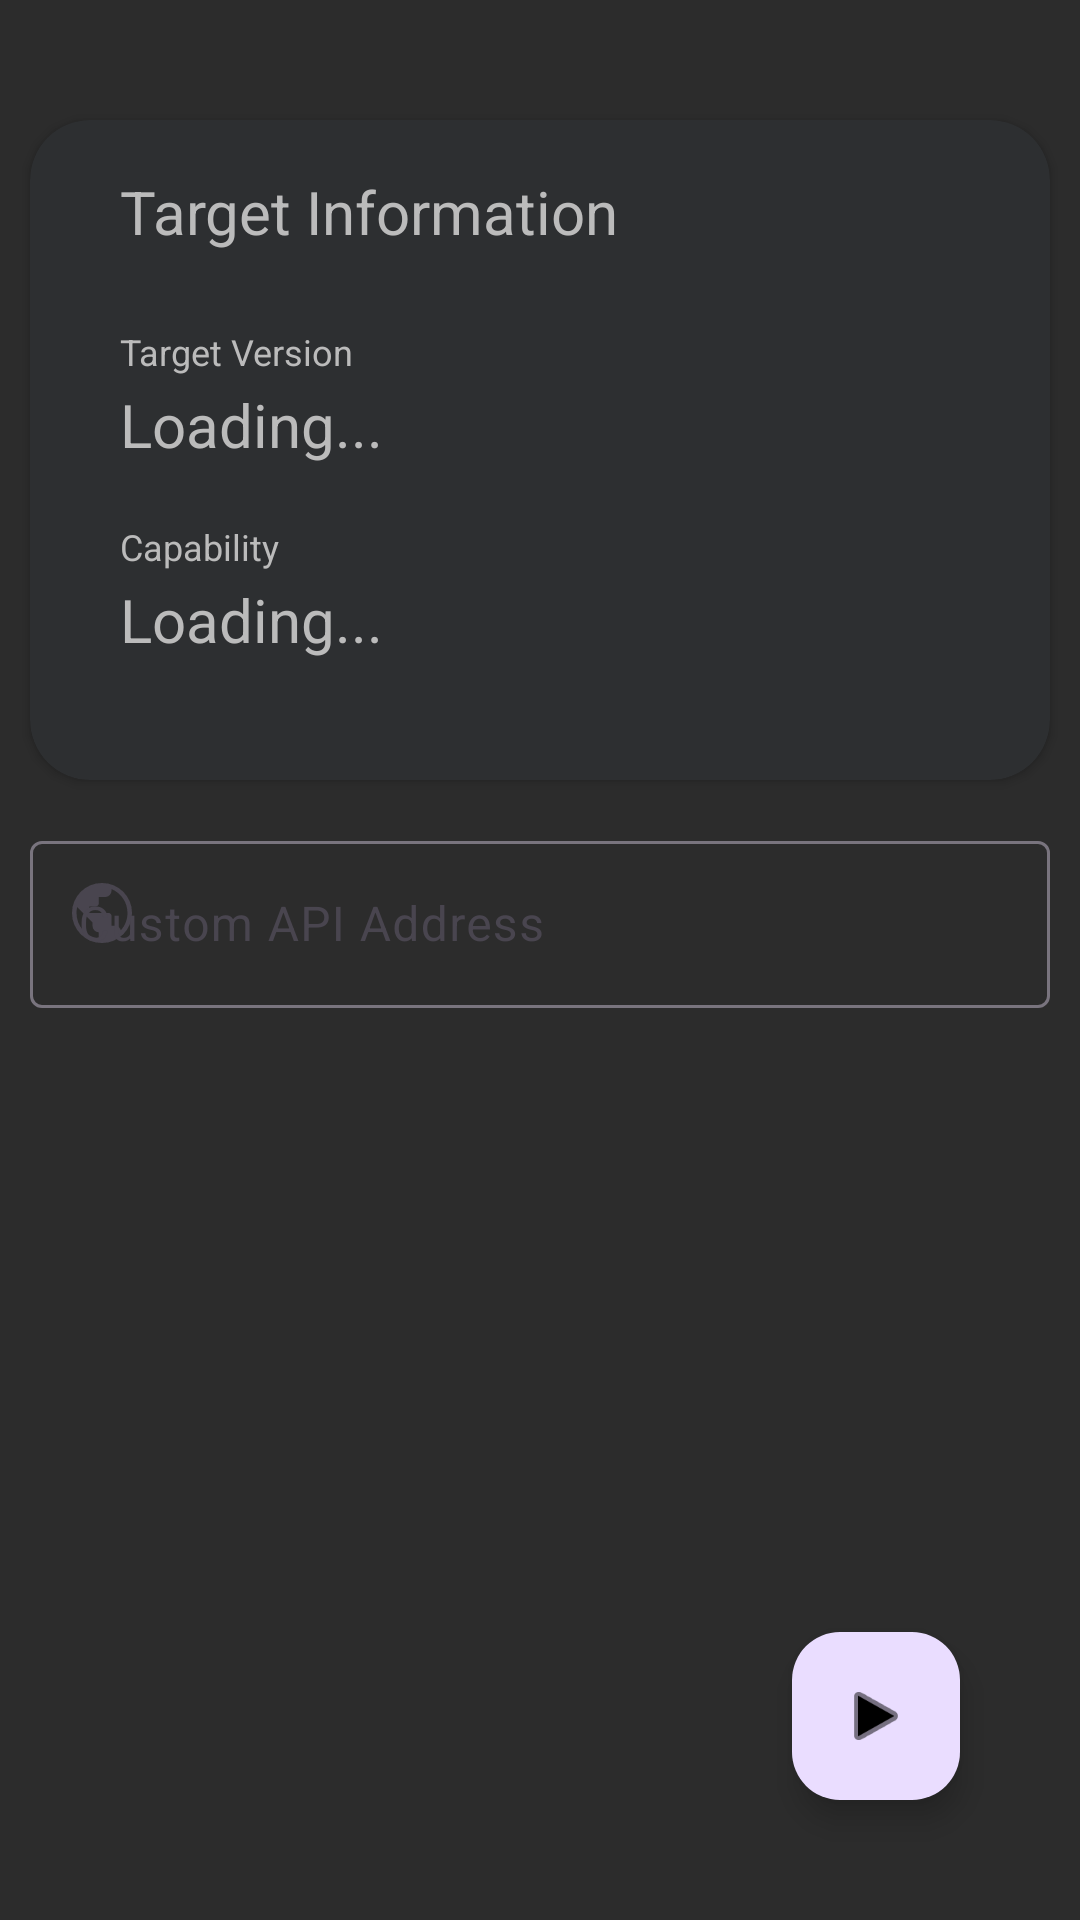

Screen size 1080px x 1920px. Icon name, then its box in pixels as (x1=x1, y1=y1, x2=x2, y2=y2):
play: (x1=792, y1=1632, x2=960, y2=1800)
